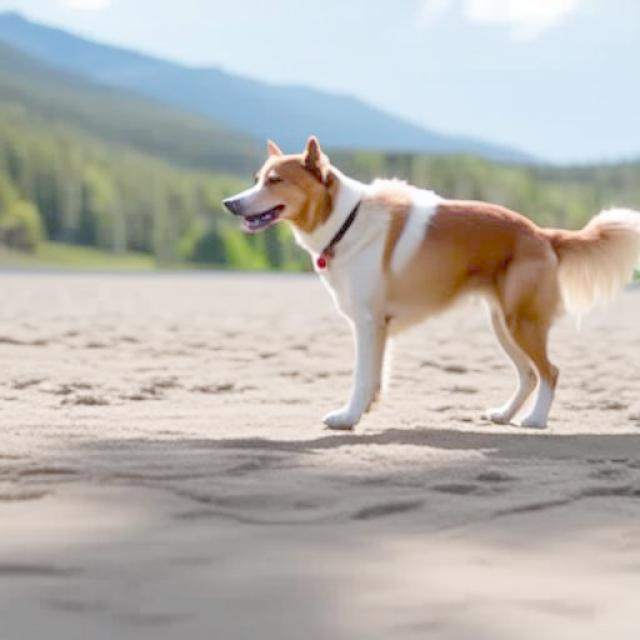Dog: (222, 136, 640, 428)
